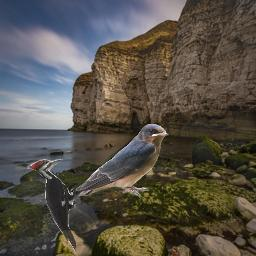Swallow: (74, 123, 169, 200)
Woodpecker: (27, 159, 76, 253)
